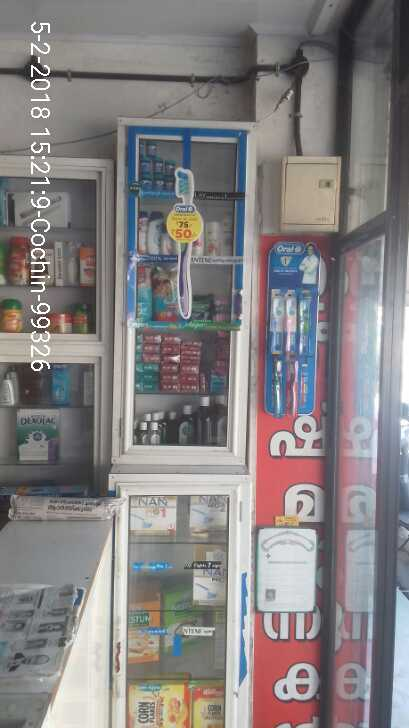oralcare: (263, 245, 322, 417)
vicks: (138, 141, 179, 195)
